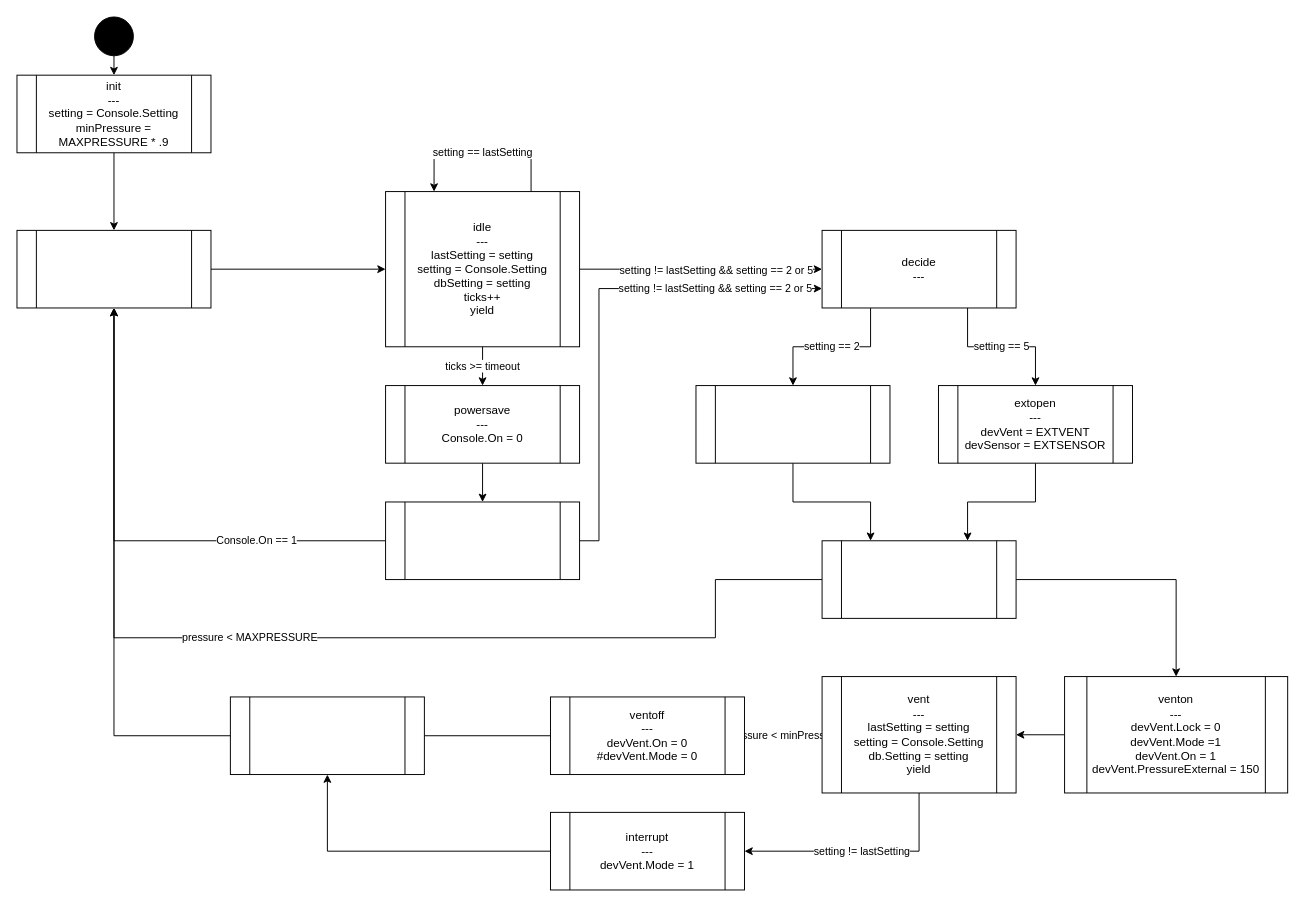
Image size: 1305x907. Some labels were removed from this diagram. Here are the shapes that lost their labels. From the top down, the box of each, then its label:
(16, 229, 211, 308): reset --- ticks = 0
(695, 385, 890, 463): intopen --- devVent = INTVENT devSensor = INTSENSOR
(385, 501, 580, 580): standby --- lastSetting = setting setting = Console.Setting yield
(821, 540, 1016, 618): checkpressure ---
(229, 696, 424, 775): lockvent --- devVent.Lock = 1
